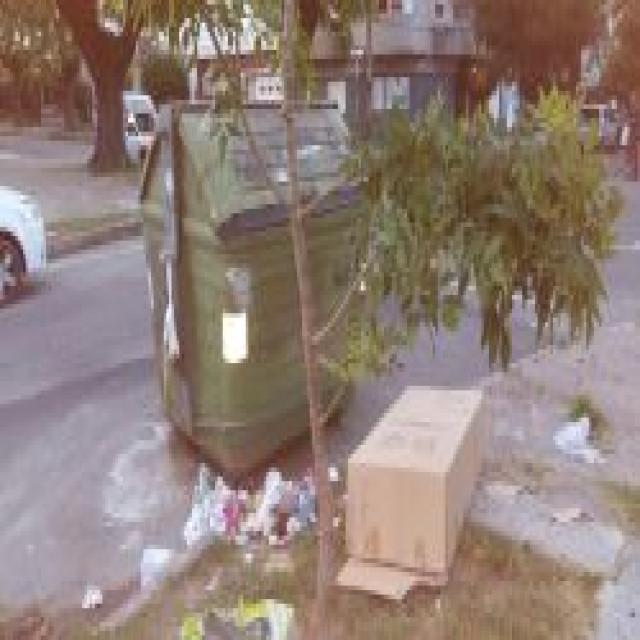garbage: (174, 440, 315, 550)
